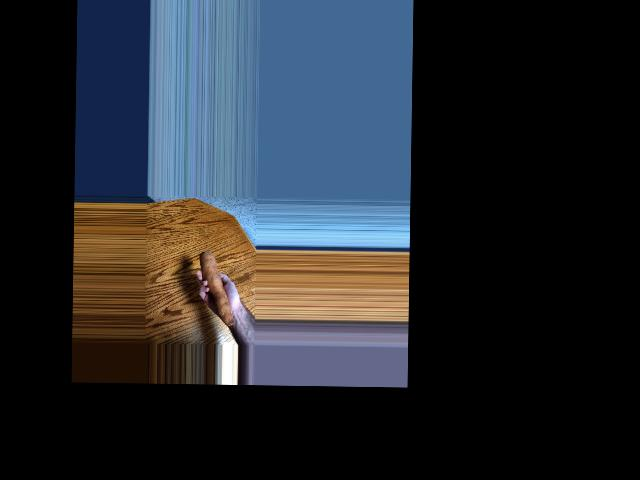sweet_potato: (197, 249, 237, 327)
